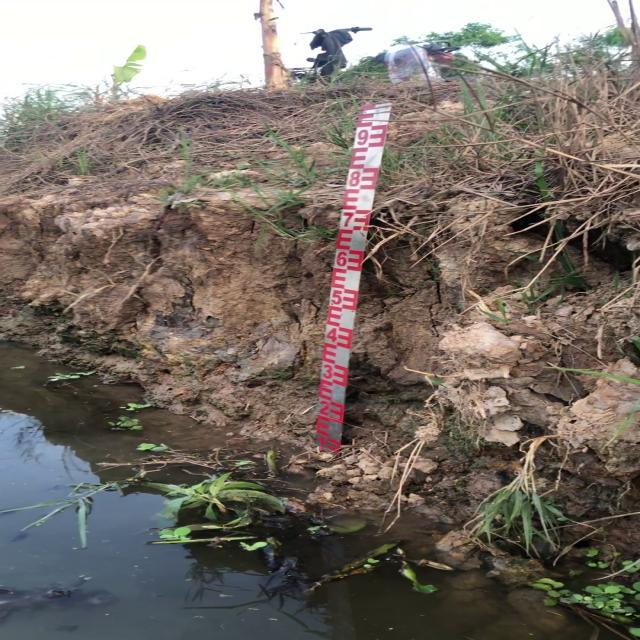ruler: (300, 89, 402, 470)
value: (343, 167, 363, 190), (315, 396, 333, 421), (353, 126, 372, 149), (327, 287, 346, 309), (332, 247, 349, 271), (339, 208, 356, 231), (323, 324, 340, 346), (319, 361, 335, 382)
